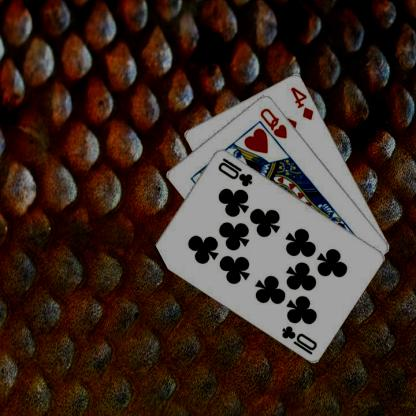10C: (281, 323, 320, 355), (217, 155, 255, 187)
4D: (290, 84, 317, 121)
QH: (259, 105, 290, 139)
